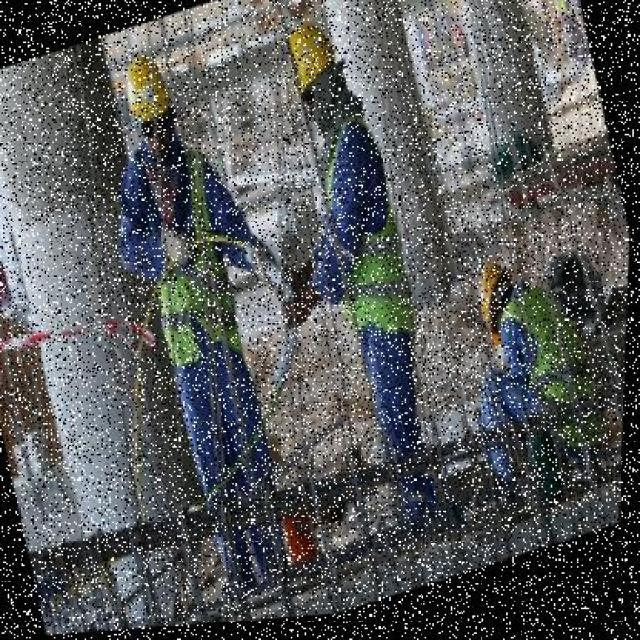helmet: (117, 42, 177, 130), (280, 21, 342, 99)
vest: (308, 118, 434, 366), (123, 151, 253, 383), (500, 281, 621, 475)
